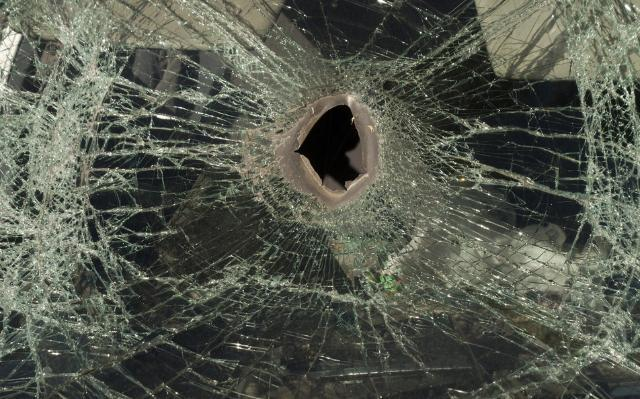Windshield: (0, 1, 640, 399)
